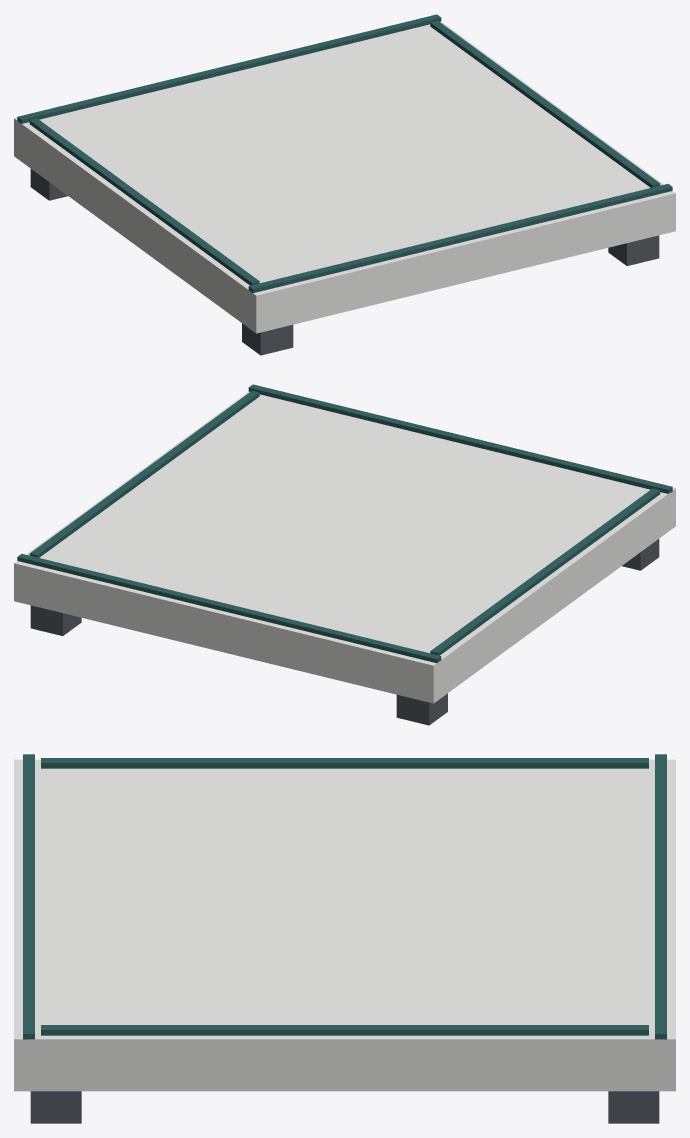
The model's file is Platform_L.fbx.
3 renders of one model, top to bottom at view 1: azimuth 30°, elevation 25°; view 2: azimuth 150°, elevation 25°; view 3: azimuth 270°, elevation 25°, orthographic. The views are drawn at different scales.
Visible parts, largest first — view 1: SM_Platform_L; view 2: SM_Platform_L; view 3: SM_Platform_L.
Boxes of the visible parts, x1,y1,x2,y2 form: SM_Platform_L: (14, 14, 675, 355); SM_Platform_L: (14, 384, 675, 725); SM_Platform_L: (14, 754, 675, 1123).
Bounding box in the file's own units: 4.4 × 0.77 × 4.4.
